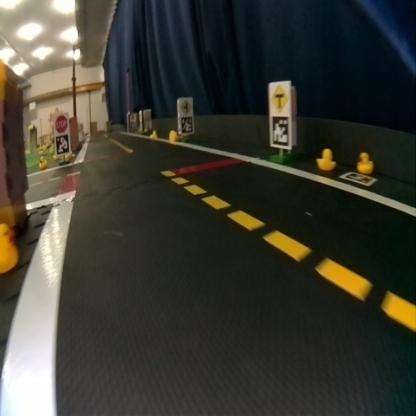Duckie: (0, 224, 17, 271), (316, 148, 332, 168), (357, 152, 372, 172), (168, 129, 177, 140), (38, 156, 46, 167), (150, 130, 156, 139)
Intersection sign: (268, 83, 288, 111), (179, 98, 191, 114)
QR code: (270, 114, 289, 148), (340, 171, 376, 185), (55, 134, 69, 155), (180, 116, 192, 133)
Stop sign: (54, 112, 68, 132)
